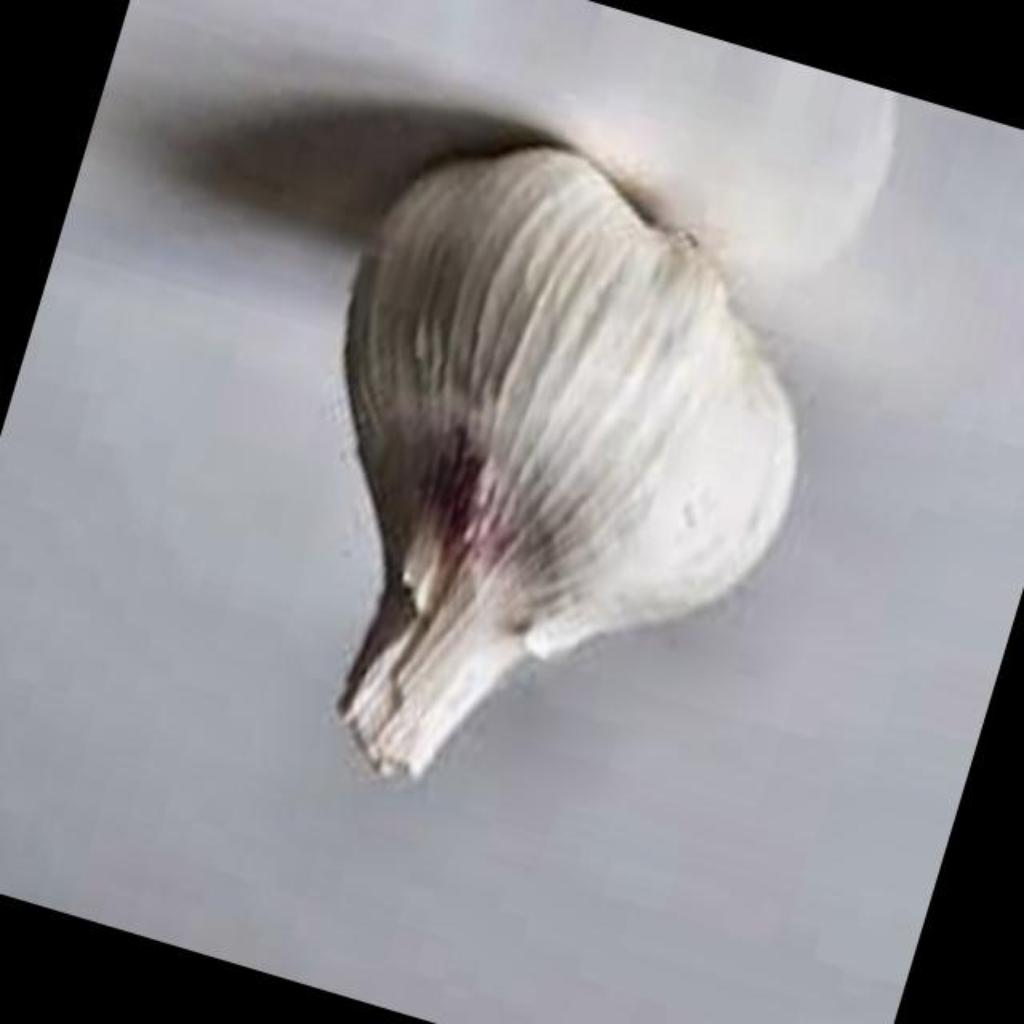garlic: (338, 148, 796, 777)
